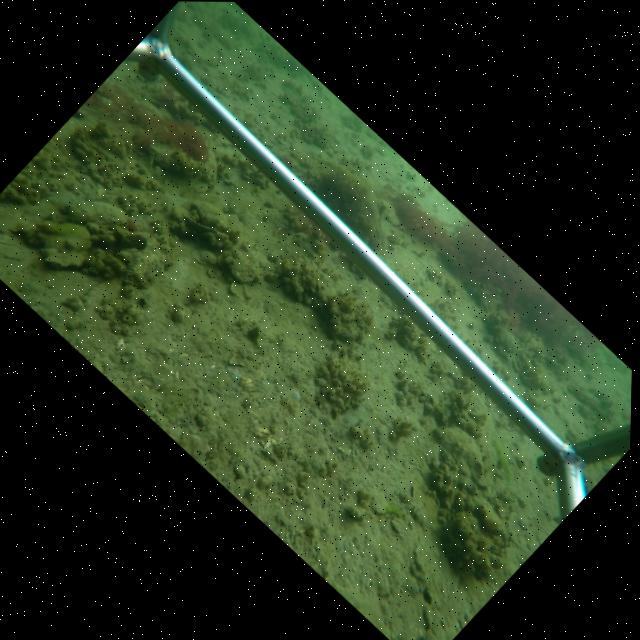Oyster-Indeterminate: (220, 245, 275, 285)
